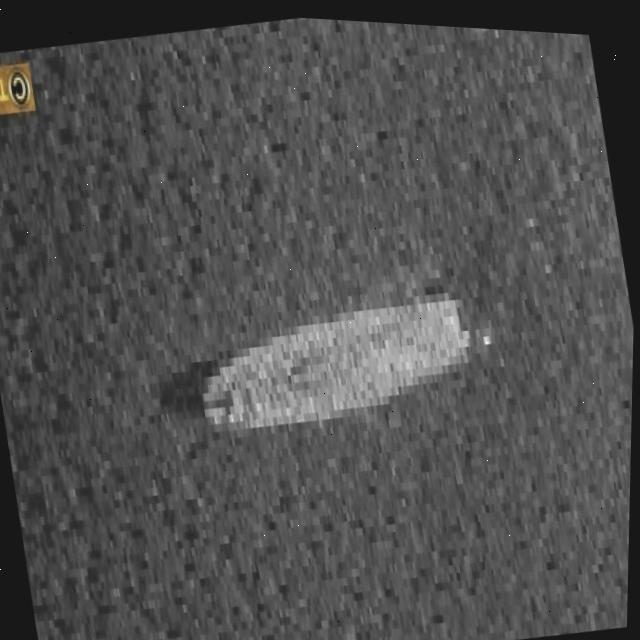shipwreck: (189, 289, 486, 453)
